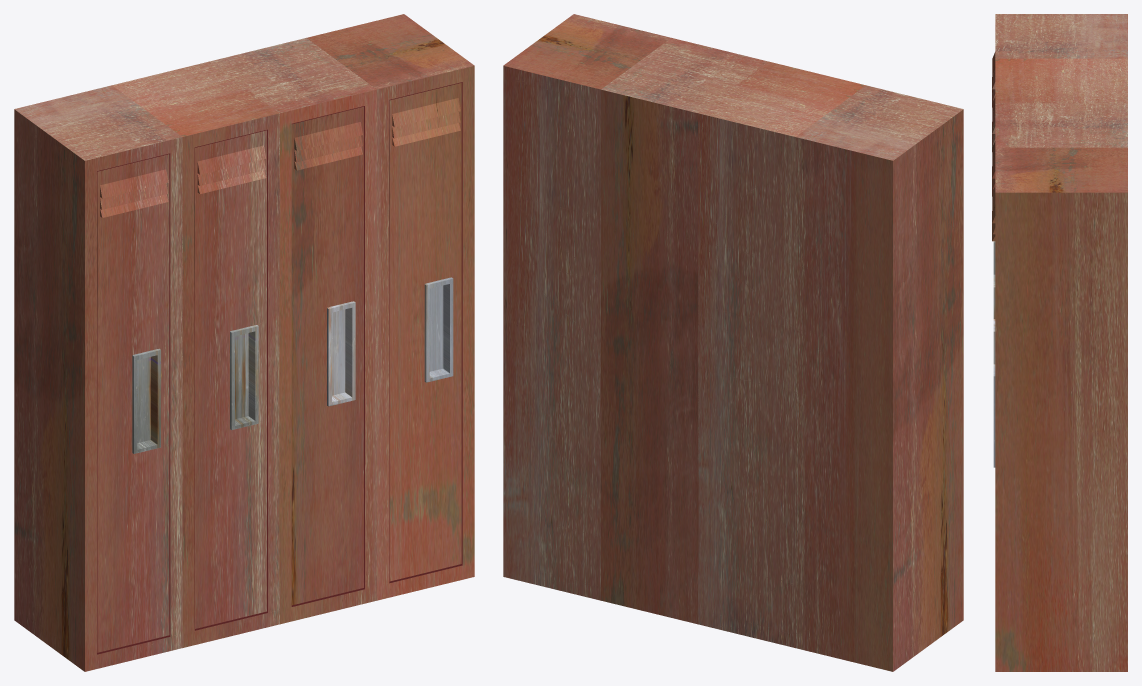
File: Lockers_of_4_Textured.fbx
The picture shows the model from 3 angles, left to right: view 1: azimuth 30°, elevation 25°; view 2: azimuth 150°, elevation 25°; view 3: azimuth 270°, elevation 25°; orthographic projection. The views are drawn at different scales.
Visible parts, largest first — view 1: Outside, Door, Door3, Door2, Door1, Outside3, Outside1, Outside2, Handle3, Handle2, Handle1, Handle (+4 smaller); view 2: Outside, Outside3, Outside1, Outside2; view 3: Outside3, Outside1, Outside, Outside2, Handle3.
Part boxes in pixels (<box>): Outside: <box>14,85,182,671</box>; Door: <box>97,154,169,652</box>; Door3: <box>389,83,461,581</box>; Door2: <box>291,106,363,605</box>; Door1: <box>195,130,266,628</box>; Outside3: <box>306,14,474,600</box>; Outside1: <box>112,61,279,647</box>; Outside2: <box>209,38,376,624</box>; Handle3: <box>424,277,453,382</box>; Handle2: <box>327,301,355,406</box>; Handle1: <box>230,325,258,430</box>; Handle: <box>132,348,160,453</box>; Outside: <box>795,85,963,671</box>; Outside3: <box>503,14,671,600</box>; Outside1: <box>698,61,865,647</box>; Outside2: <box>601,38,768,624</box>; Outside3: <box>995,147,1127,671</box>; Outside1: <box>995,58,1127,103</box>; Outside: <box>995,14,1127,58</box>; Outside2: <box>995,103,1127,147</box>; Handle3: <box>993,364,995,467</box>.
Size of the model in its own units: 1.21 by 1.52 by 0.3904.
Materials: 3 (2 with a texture image).
